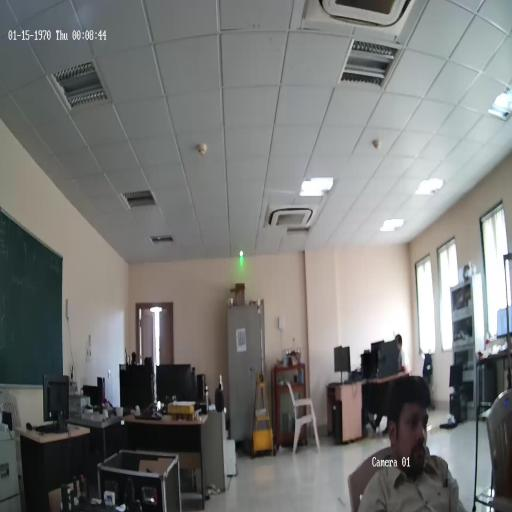laser: (239, 249, 244, 257)
